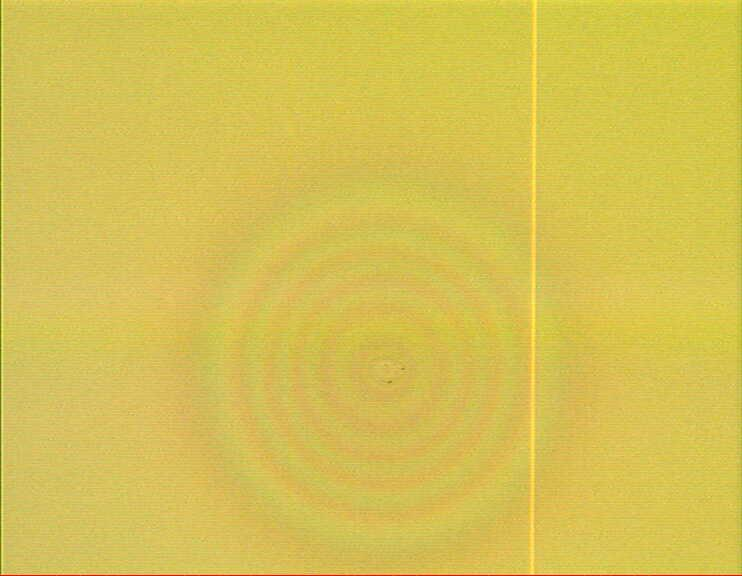PIQ PARTICLE: (370, 355, 408, 388)
